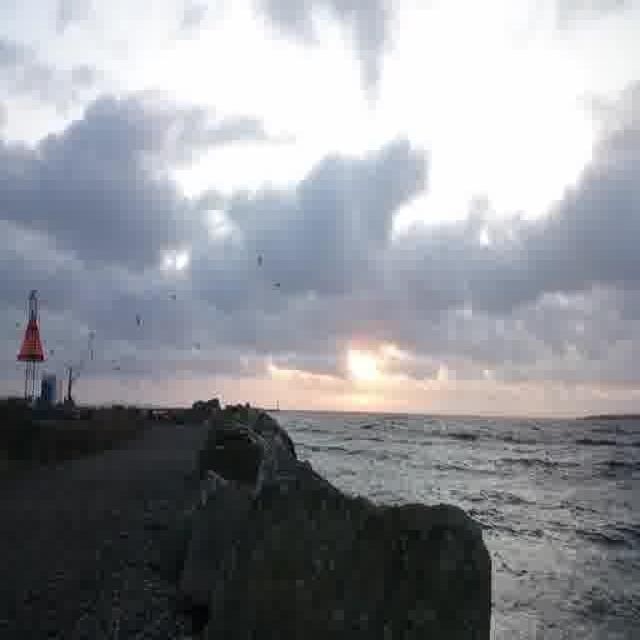bird: (187, 335, 207, 357), (170, 282, 184, 304), (132, 312, 150, 329), (108, 362, 124, 374), (11, 320, 25, 331), (86, 325, 98, 335), (272, 282, 287, 289), (258, 256, 266, 268)
